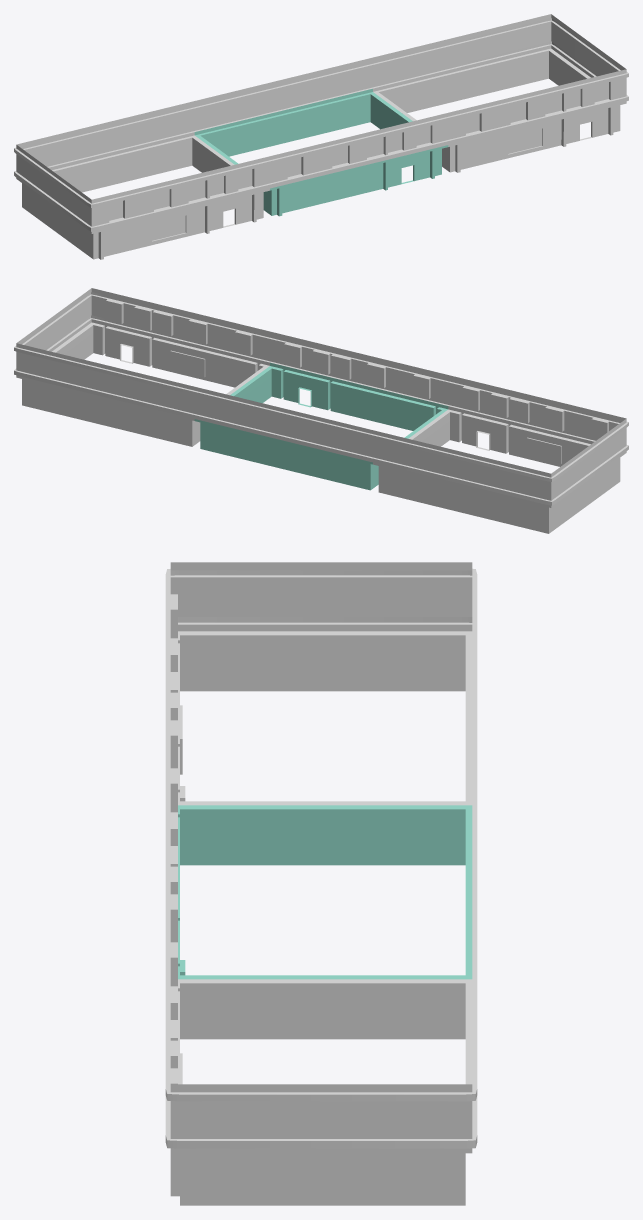
The model's file is FBXAppartment Type 3_Groente+Kleding.fbx.
3 renders of one model, top to bottom at view 1: azimuth 30°, elevation 25°; view 2: azimuth 150°, elevation 25°; view 3: azimuth 270°, elevation 25°, orthographic. The views are drawn at different scales.
Visible parts, largest first — view 1: Appartement type 3_Top, GroenteBoer, KledingWinkel, Appartement type 3_Bottem_Middle; view 2: Appartement type 3_Top, GroenteBoer, KledingWinkel, Appartement type 3_Bottem_Middle; view 3: Appartement type 3_Top, KledingWinkel, GroenteBoer, Appartement type 3_Bottem_Middle.
Boxes of the visible parts, x1,y1,x2,y2 form: Appartement type 3_Top: (14,14,628,231); GroenteBoer: (16,132,269,259); KledingWinkel: (373,45,626,172); Appartement type 3_Bottem_Middle: (194,88,448,216); Appartement type 3_Top: (14,288,628,505); GroenteBoer: (373,406,626,533); KledingWinkel: (16,319,269,446); Appartement type 3_Bottem_Middle: (194,362,448,490); Appartement type 3_Top: (165,562,477,1148); KledingWinkel: (170,979,472,1205); GroenteBoer: (178,624,472,805); Appartement type 3_Bottem_Middle: (178,805,472,979).
Size of the model in its own units: 85.47 by 9.46 by 21.38.
